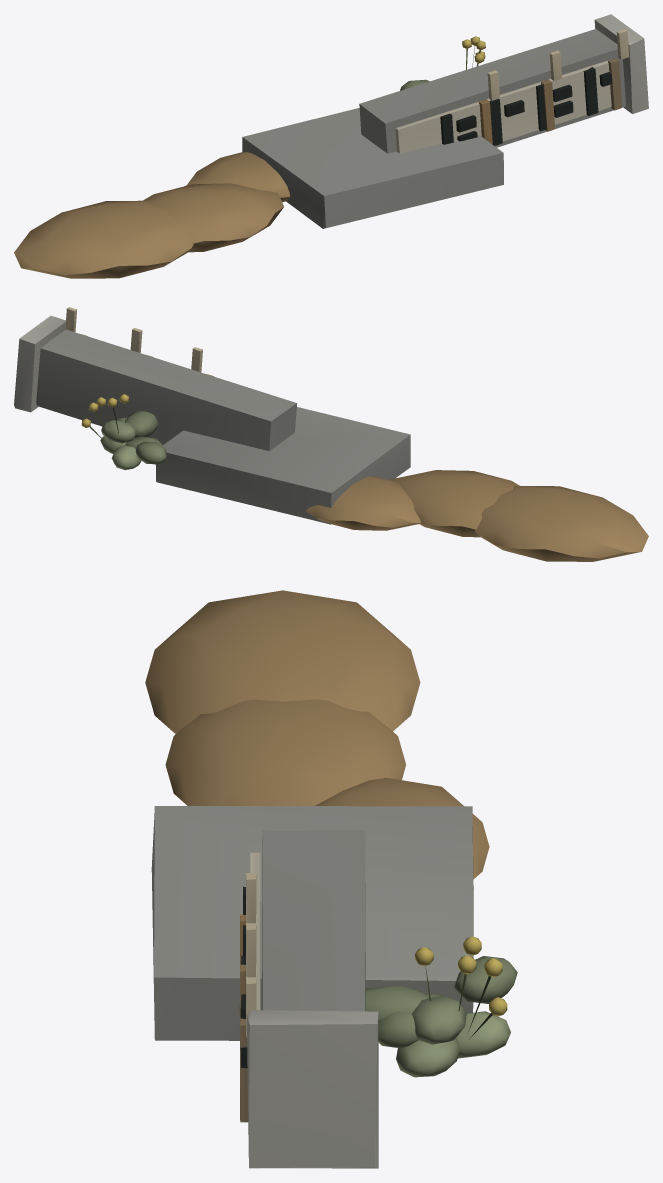
The model's file is flood_staff_c_lod1.glb.
3 views of the same model, one above another, from view 1: azimuth 30°, elevation 25°; view 2: azimuth 150°, elevation 25°; view 3: azimuth 270°, elevation 25° (orthographic). The views are drawn at different scales.
Parts seen in each view (by area): view 1: Surface.001; view 2: Surface.001; view 3: Surface.001.
Boxes of the visible parts, left/top/right/bottom form: Surface.001: left=14, top=14, right=648, bottom=278; Surface.001: left=14, top=307, right=648, bottom=561; Surface.001: left=145, top=590, right=517, bottom=1168.
Bounding box in the file's own units: 9.71 × 1.72 × 2.59.
